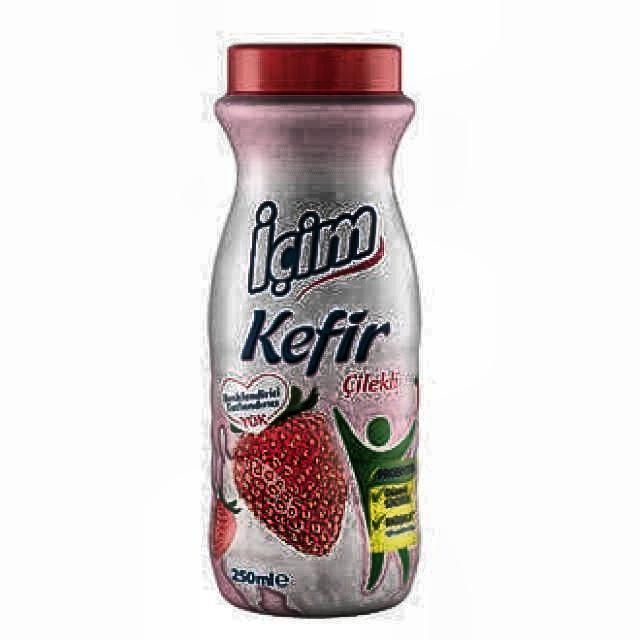plastic: (207, 43, 421, 621)
